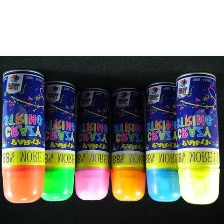aerosol_cans: (173, 68, 221, 208), (0, 65, 48, 205), (35, 79, 81, 206), (142, 77, 187, 204), (69, 83, 111, 204), (106, 85, 147, 203)
